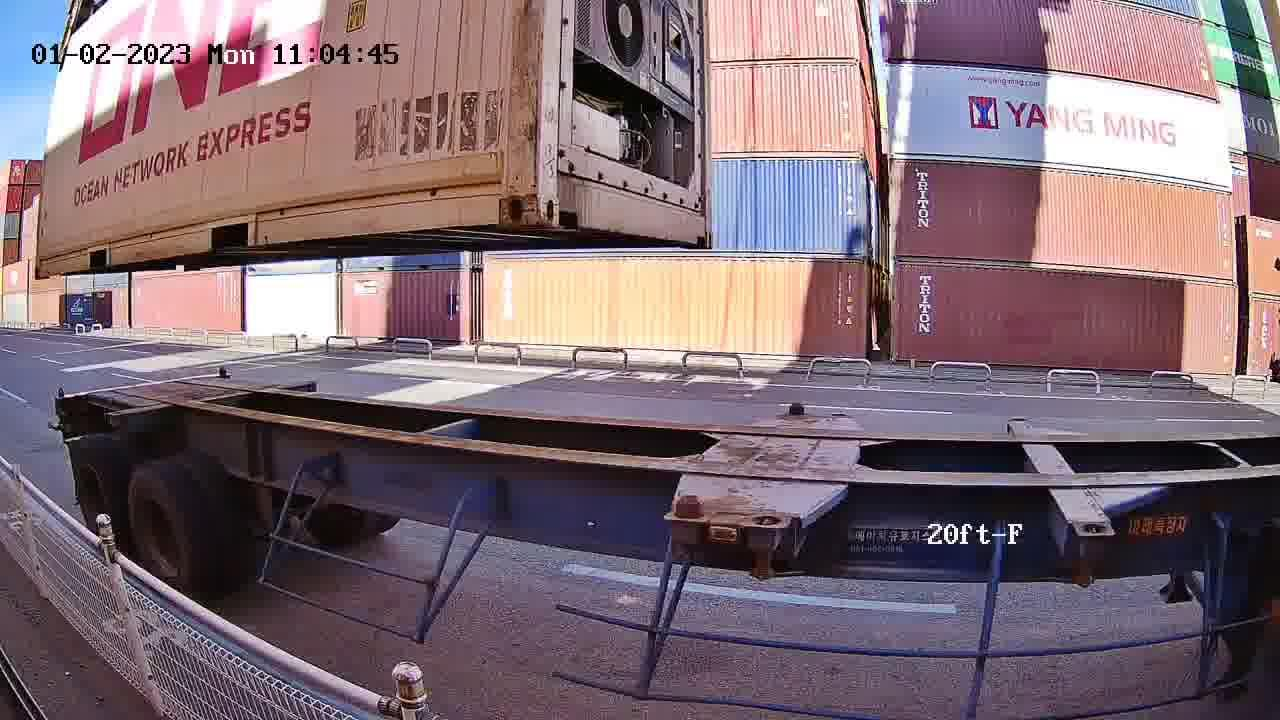Chassis: (671, 412, 809, 525), (739, 412, 866, 532)
Cone: (742, 510, 792, 580), (672, 492, 709, 565), (782, 399, 808, 416)
Hole_L: (538, 169, 587, 228)
Hole_R: (467, 166, 538, 225), (691, 209, 714, 249)
Tire: (129, 467, 203, 599), (78, 449, 125, 550)
